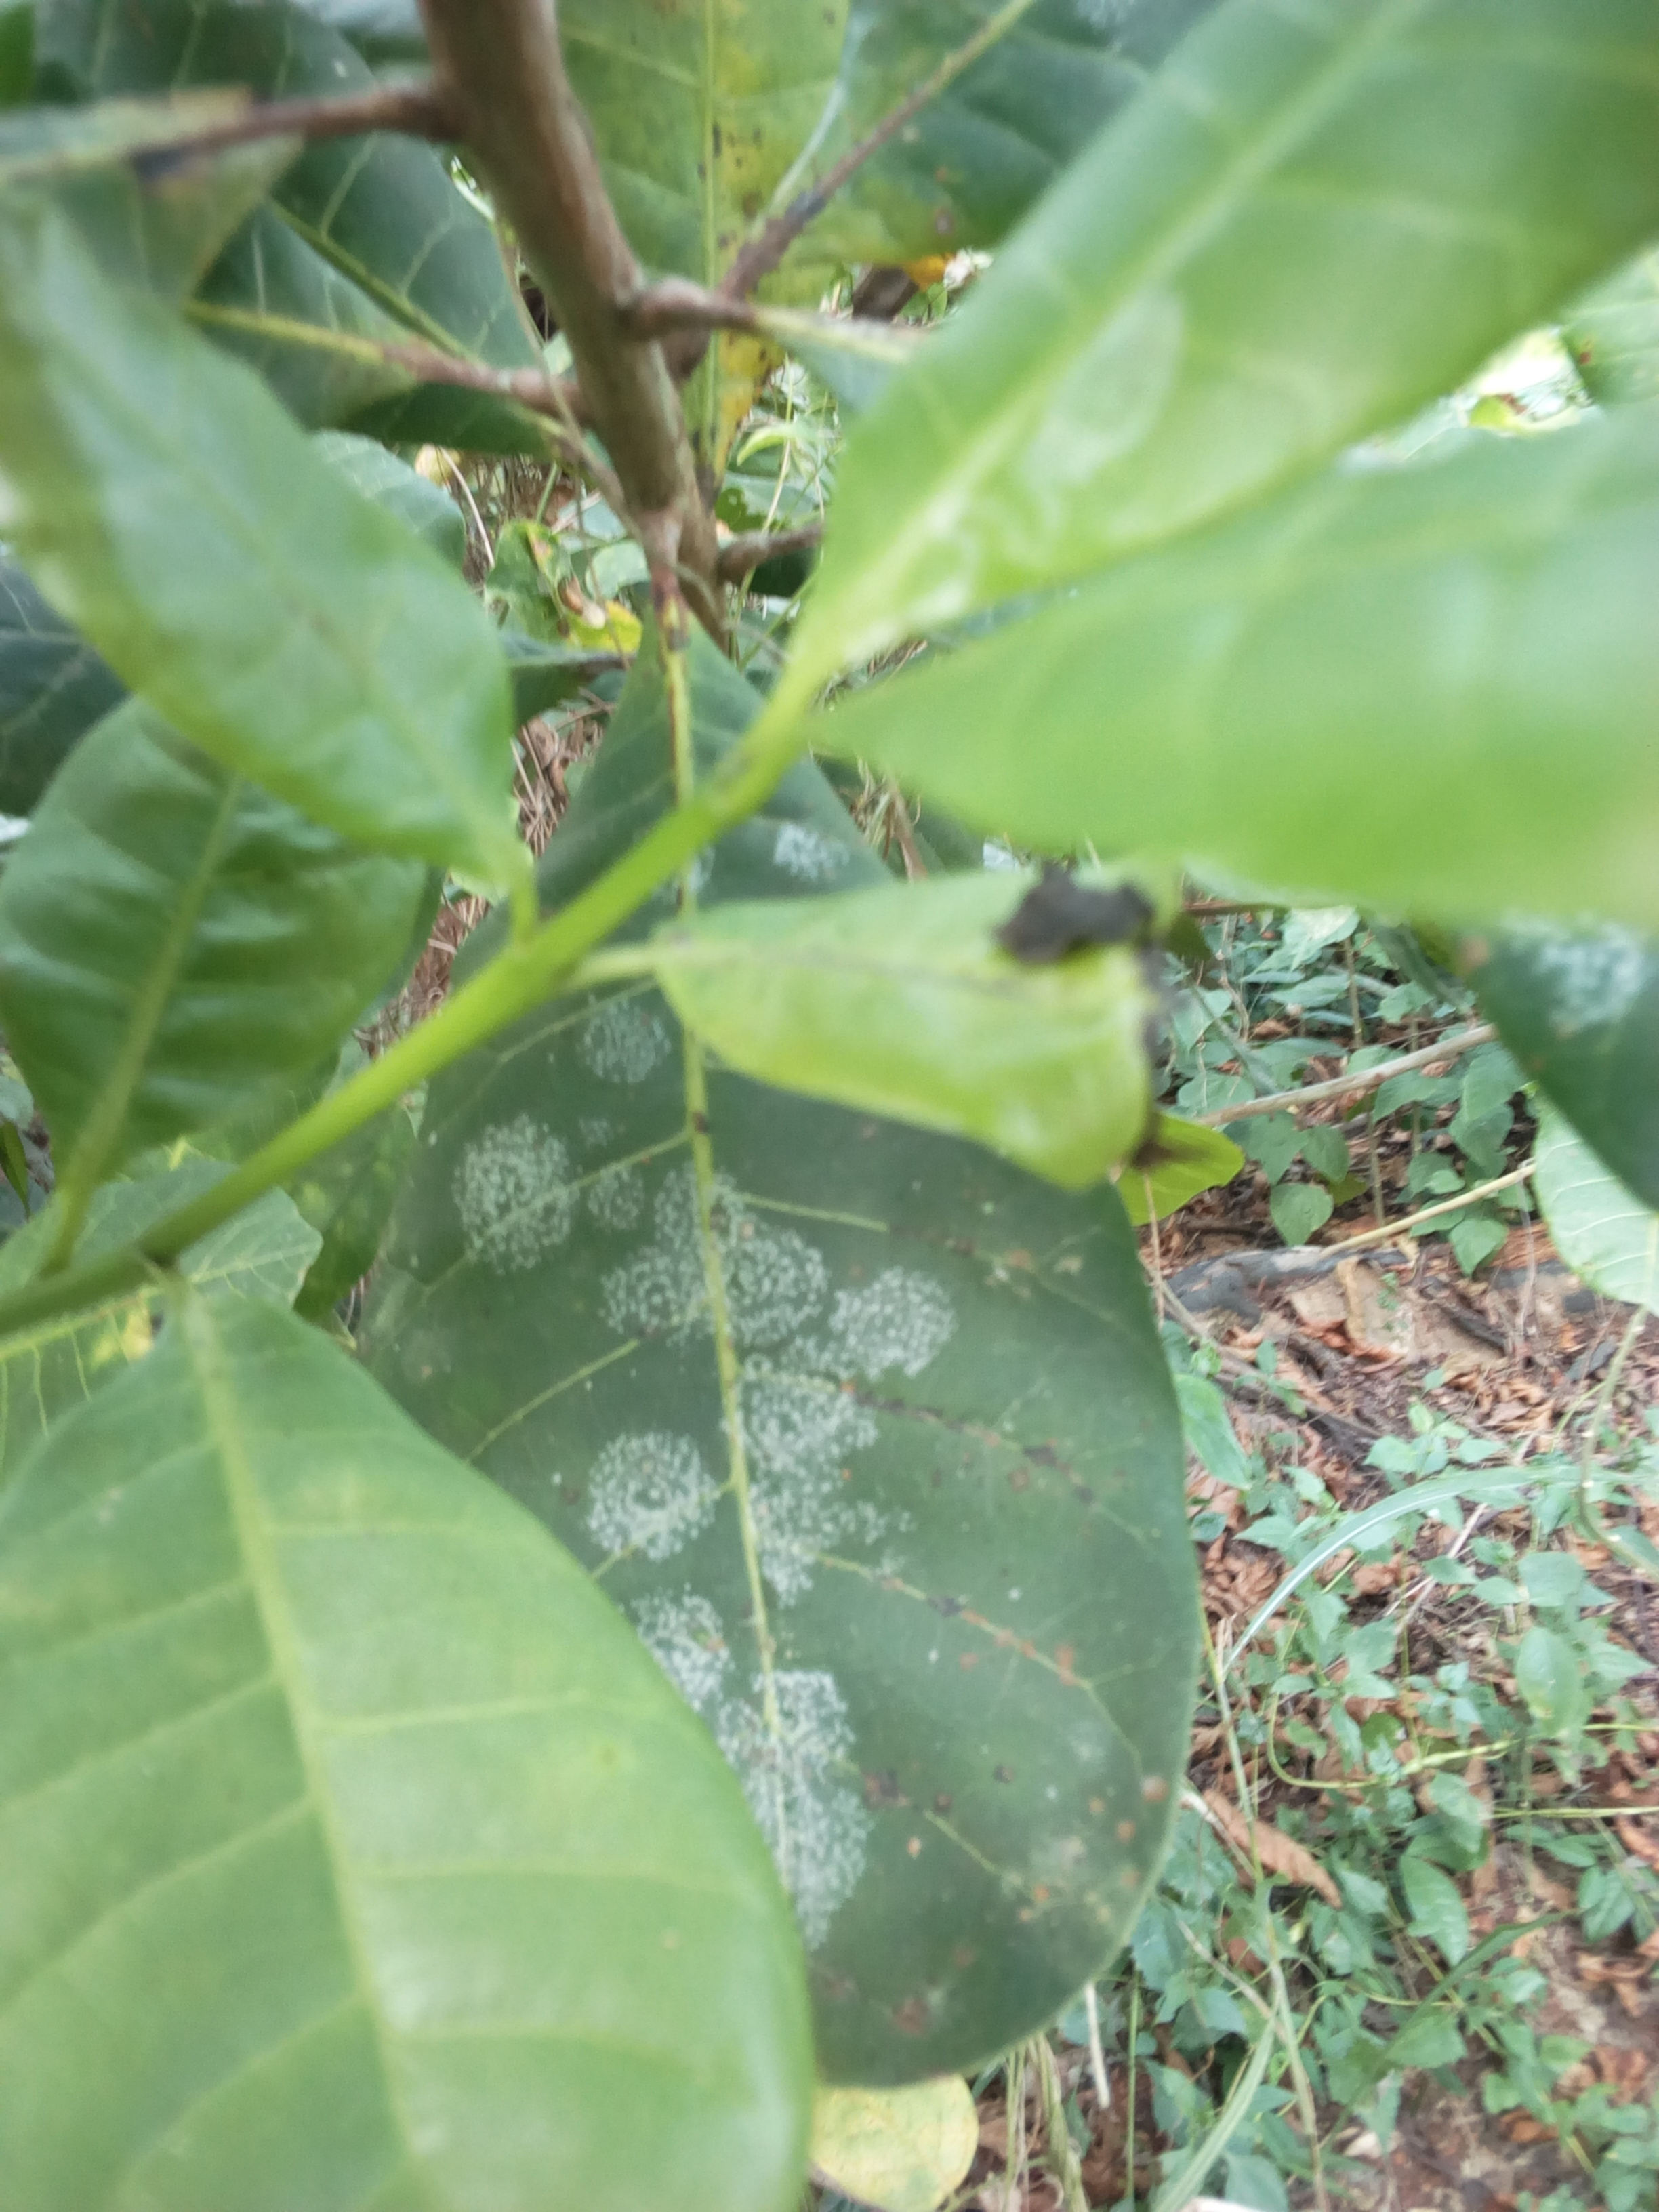Anthracnose: (676, 1146, 1188, 2085)
